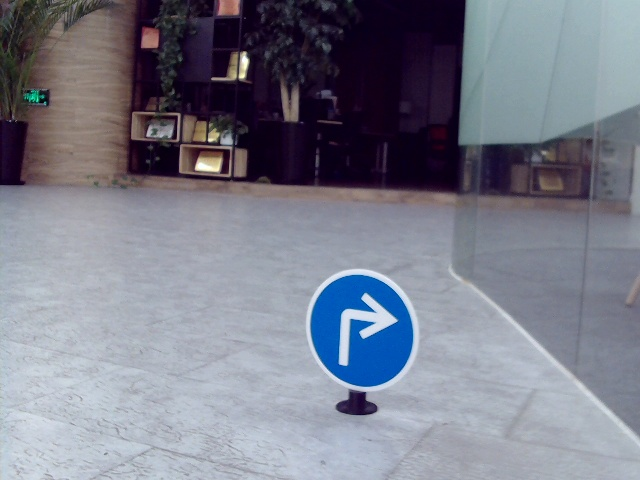turn_right: (332, 292, 397, 369)
